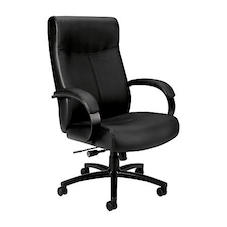chair: (32, 6, 192, 225)
